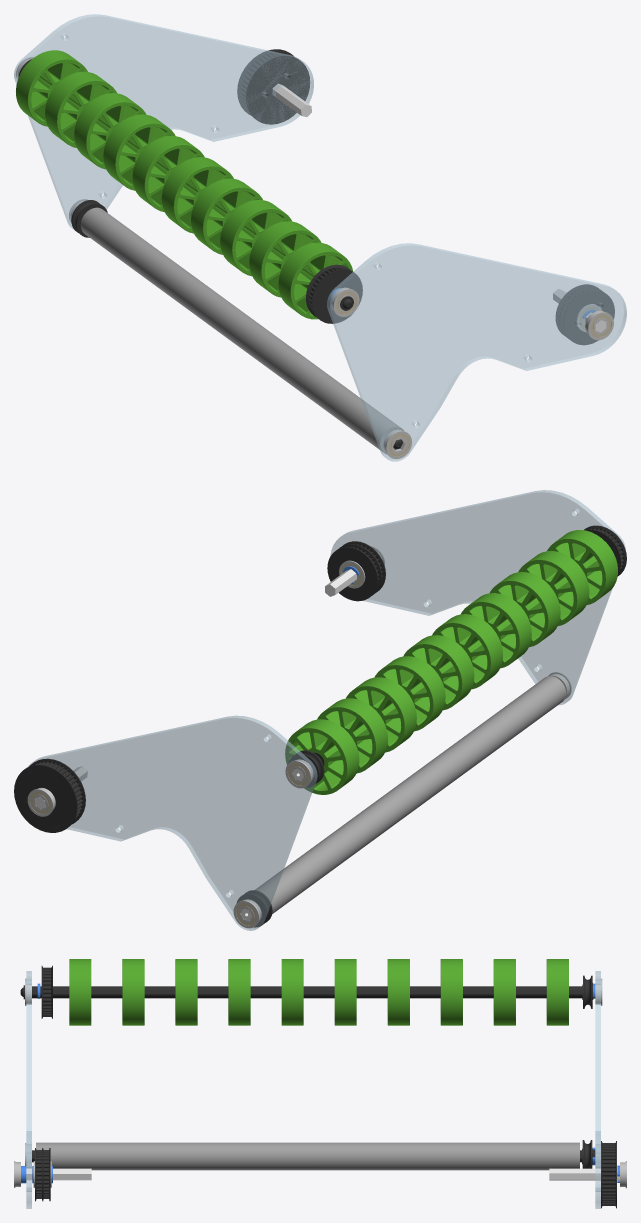
3 renders of one model, top to bottom at view 1: azimuth 30°, elevation 25°; view 2: azimuth 150°, elevation 25°; view 3: azimuth 270°, elevation 25°, orthographic. The views are drawn at different scales.
Visible parts, largest first — view 1: Side intake panel (×2), 3" Compliant Wheel (35A, 1" Wide, 1/2" Hex Bore) (×10), Bottom roller, 46t Custom HTD 5mm Pulley (0.6" Wide, *0.51" Hex Bore), 36t Custom HTD 5mm Pulley (0.375" Wide, *0.375" Hex Bore), Double wide narrow, 1/2" Hex (3.5" L, 7075 Aluminum), 1/2" Hex Bore Bearing (1.125" OD, 0.313" WD, Shielded, Flang; view 2: Side intake panel (×2), 3" Compliant Wheel (35A, 1" Wide, 1/2" Hex Bore) (×10), Bottom roller, 46t Custom HTD 5mm Pulley (0.6" Wide, *0.51" Hex Bore), Double wide narrow, 36t Custom HTD 5mm Pulley (0.375" Wide, *0.375" Hex Bore); view 3: 3" Compliant Wheel (35A, 1" Wide, 1/2" Hex Bore) (×10), Bottom roller, 1/2" Rounded Hex (26"L 13.75mm OD), Side intake panel (×2), 1/2" Hex (3.5" L, 7075 Aluminum) (×2), 46t Custom HTD 5mm Pulley (0.6" Wide, *0.51" Hex Bore), Double wide narrow, 36t Custom HTD 5mm Pulley (0.375" Wide, *0.375" Hex Bore).
Boxes of the visible parts, <box> form: Side intake panel (×2): <box>14,14,626,461</box>; 3" Compliant Wheel (35A, 1" Wide, 1/2" Hex Bore) (×10): <box>16,50,353,319</box>; Bottom roller: <box>80,207,403,454</box>; 46t Custom HTD 5mm Pulley (0.6" Wide, *0.51" Hex Bore): <box>237,49,310,124</box>; 36t Custom HTD 5mm Pulley (0.375" Wide, *0.375" Hex Bore): <box>306,264,362,323</box>; Double wide narrow: <box>556,284,614,344</box>; 1/2" Hex (3.5" L, 7075 Aluminum): <box>272,84,311,116</box>; 1/2" Hex Bore Bearing (1.125" OD, 0.313" WD, Shielded, Flang: <box>383,429,412,459</box>; Side intake panel (×2): <box>28,490,625,930</box>; 3" Compliant Wheel (35A, 1" Wide, 1/2" Hex Bore) (×10): <box>285,530,617,794</box>; Bottom roller: <box>255,676,566,913</box>; 46t Custom HTD 5mm Pulley (0.6" Wide, *0.51" Hex Bore): <box>14,758,85,832</box>; Double wide narrow: <box>327,541,385,601</box>; 36t Custom HTD 5mm Pulley (0.375" Wide, *0.375" Hex Bore): <box>584,525,626,576</box>; 3" Compliant Wheel (35A, 1" Wide, 1/2" Hex Bore) (×10): <box>69,959,568,1025</box>; Bottom roller: <box>36,1142,579,1170</box>; 1/2" Rounded Hex (26"L 13.75mm OD): <box>32,986,594,998</box>; Side intake panel (×2): <box>26,971,600,1208</box>; 1/2" Hex (3.5" L, 7075 Aluminum) (×2): <box>26,1168,619,1180</box>; 46t Custom HTD 5mm Pulley (0.6" Wide, *0.51" Hex Bore): <box>601,1141,616,1208</box>; Double wide narrow: <box>35,1148,50,1201</box>; 36t Custom HTD 5mm Pulley (0.375" Wide, *0.375" Hex Bore): <box>41,965,52,1018</box>.
Size of the model in its own units: 0.3756 by 0.2456 by 0.701.
